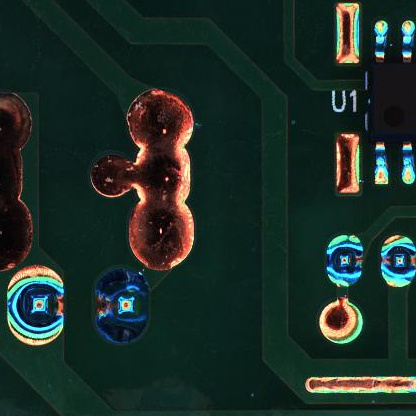spot: (7, 264, 67, 347), (93, 267, 153, 347), (324, 232, 364, 289), (379, 235, 416, 289)
